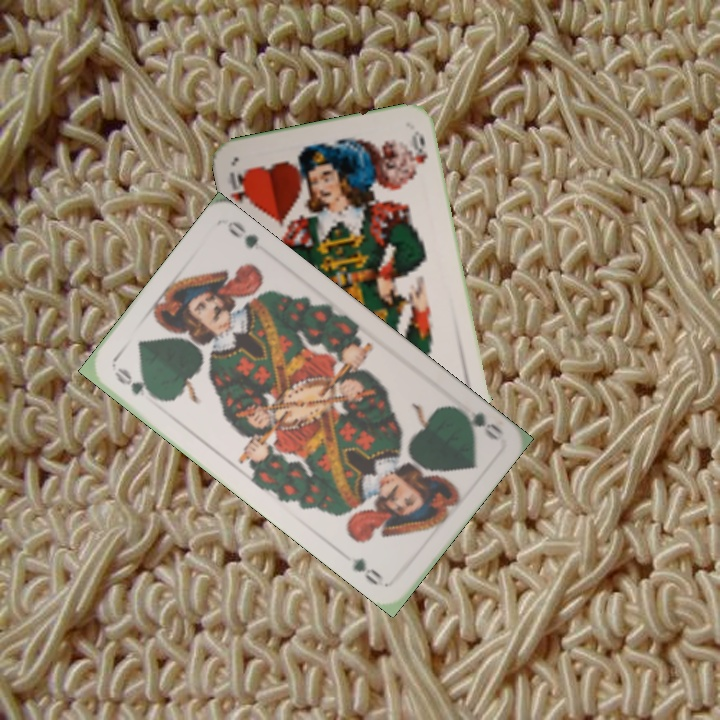GO: (448, 397, 505, 443), (109, 363, 162, 403)
HO: (225, 166, 254, 207)
